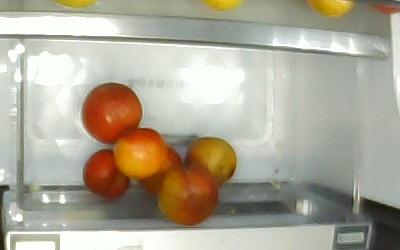prune: (81, 82, 141, 145), (157, 165, 217, 227), (114, 127, 168, 178), (83, 148, 129, 199), (187, 137, 237, 183), (138, 144, 183, 194)
